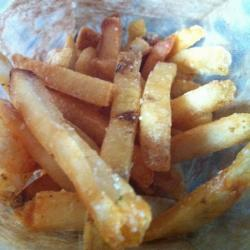fries: (9, 27, 246, 242)
